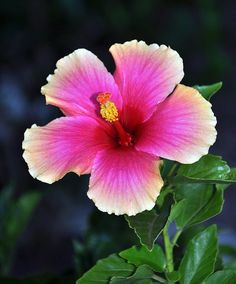Hibiscus: (21, 36, 217, 212)
